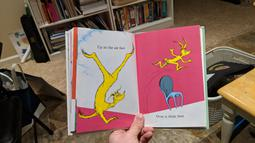text block: (95, 42, 127, 52), (152, 112, 187, 119)
